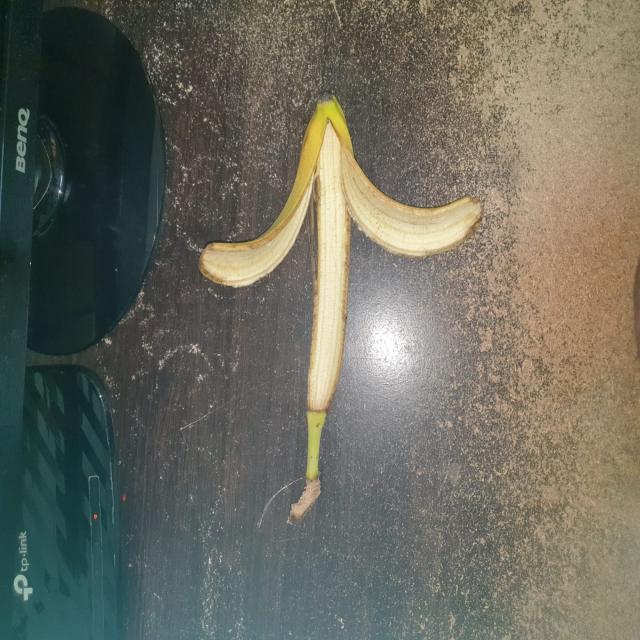banana-peel: (197, 93, 482, 526)
